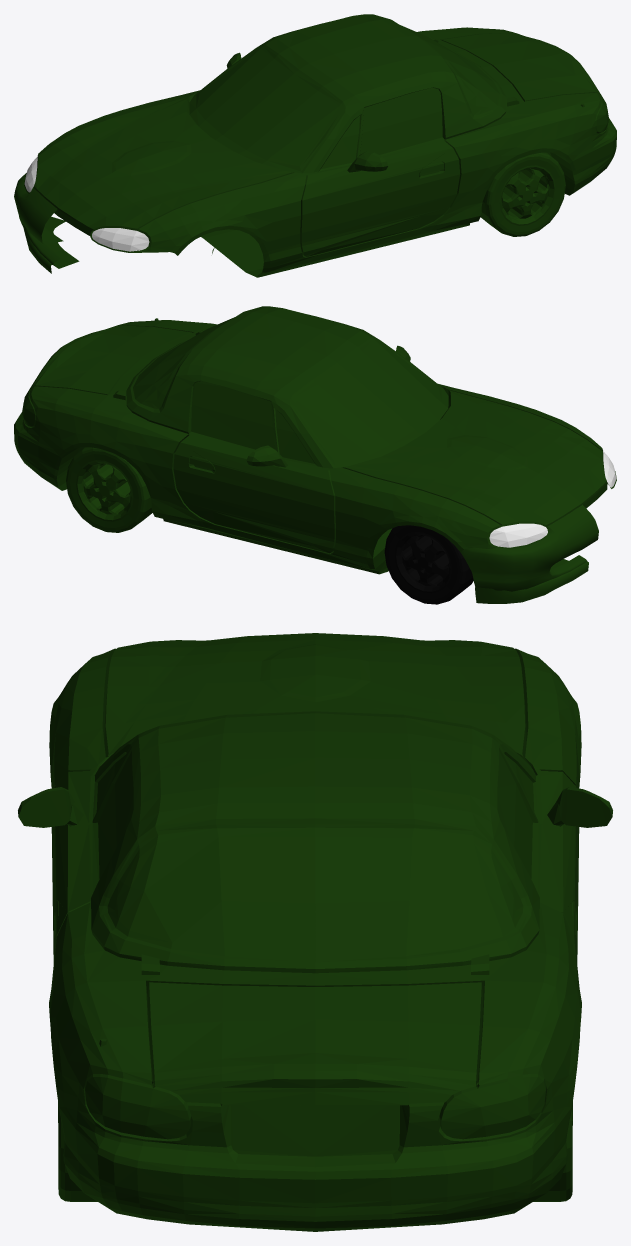
3 renders of one model, top to bottom at view 1: azimuth 30°, elevation 25°; view 2: azimuth 150°, elevation 25°; view 3: azimuth 270°, elevation 25°, orthographic. The views are drawn at different scales.
Visible parts, largest first — view 1: miata_all; view 2: miata_all; view 3: miata_all.
Boxes of the visible parts, left/top/right/bottom form: miata_all: left=14, top=14, right=616, bottom=277; miata_all: left=14, top=306, right=616, bottom=604; miata_all: left=18, top=633, right=612, bottom=1231.
Size of the model in its own units: 3.95 by 1.18 by 1.88.
